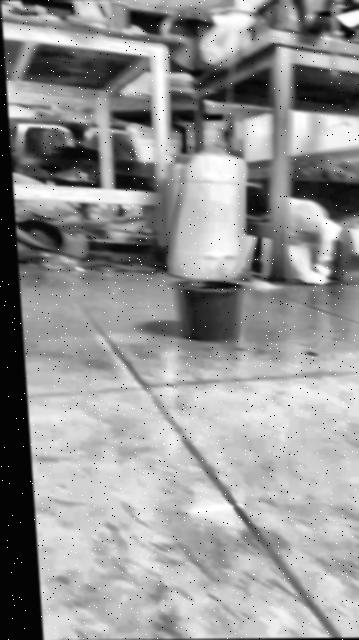pot: (169, 278, 250, 340)
